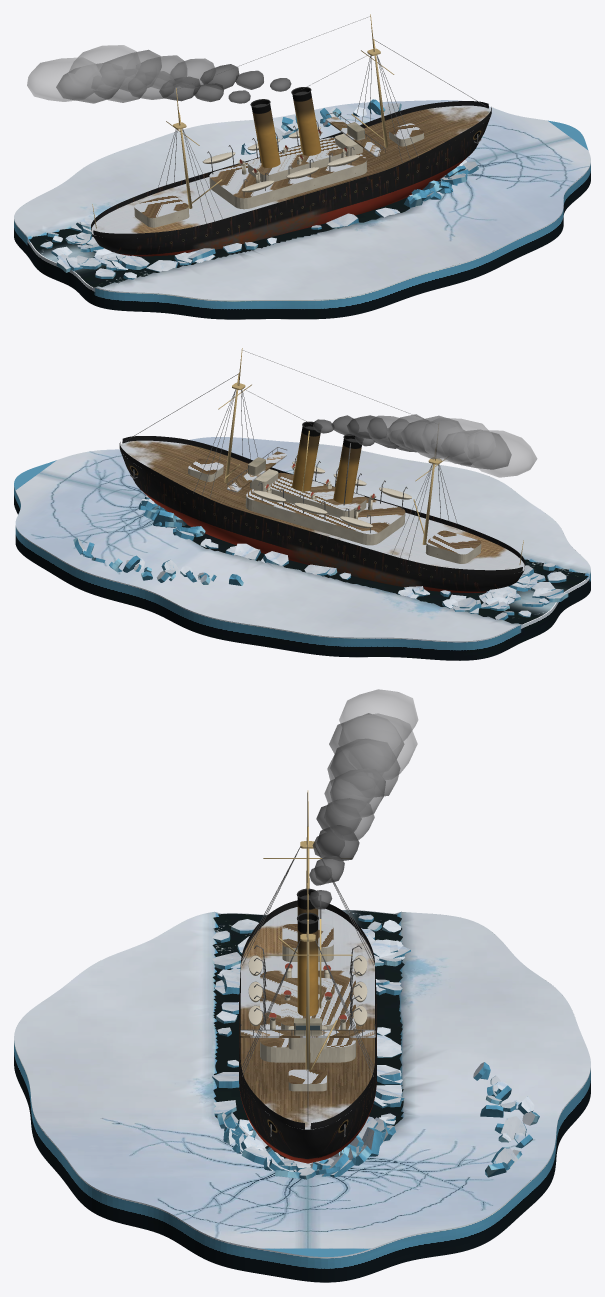
The model's file is ermak-1899.glb.
The picture shows the model from 3 angles, top to bottom: view 1: azimuth 30°, elevation 25°; view 2: azimuth 150°, elevation 25°; view 3: azimuth 270°, elevation 25°; orthographic projection. The views are drawn at different scales.
Parts seen in each view (by area): view 1: ledyanoe-pole, korpus, dioramy-srez, paluba, oblomki-ldin, nadstrojka, voda-kanal, dym-13, dym-6, dym-12, nadstr-2, dym-5 (+13 smaller); view 2: ledyanoe-pole, korpus, dioramy-srez, paluba, oblomki-ldin, nadstrojka, voda-kanal, dym-6, dym-13, dym-12, dym-5, nadstr-2 (+9 smaller); view 3: ledyanoe-pole, dioramy-srez, oblomki-ldin, paluba, korpus, voda-kanal, nadstrojka, dym-6, dym-5, dym-13, dym-12, dym-4 (+9 smaller).
Part boxes in pixels (bbox=[...]): ledyanoe-pole: bbox=[14, 100, 590, 300]; korpus: bbox=[91, 101, 491, 256]; dioramy-srez: bbox=[14, 100, 590, 319]; paluba: bbox=[91, 105, 490, 235]; oblomki-ldin: bbox=[40, 99, 478, 279]; nadstrojka: bbox=[209, 137, 367, 209]; voda-kanal: bbox=[29, 179, 576, 287]; dym-13: bbox=[27, 57, 101, 101]; dym-6: bbox=[68, 45, 140, 90]; dym-12: bbox=[56, 63, 122, 103]; nadstr-2: bbox=[247, 138, 342, 181]; dym-5: bbox=[100, 49, 161, 92]; ledyanoe-pole: bbox=[14, 437, 590, 641]; korpus: bbox=[119, 436, 525, 592]; dioramy-srez: bbox=[14, 486, 590, 660]; paluba: bbox=[119, 440, 524, 571]; oblomki-ldin: bbox=[73, 495, 568, 620]; nadstrojka: bbox=[245, 472, 405, 545]; voda-kanal: bbox=[182, 524, 588, 639]; dym-6: bbox=[421, 417, 495, 463]; dym-13: bbox=[464, 430, 537, 477]; dym-12: bbox=[441, 429, 511, 469]; dym-5: bbox=[400, 415, 464, 456]; nadstr-2: bbox=[269, 474, 366, 517]; ledyanoe-pole: bbox=[14, 911, 590, 1256]; dioramy-srez: bbox=[14, 910, 590, 1282]; oblomki-ldin: bbox=[212, 914, 539, 1179]; paluba: bbox=[240, 907, 374, 1129]; korpus: bbox=[239, 900, 376, 1163]; voda-kanal: bbox=[212, 910, 530, 1180]; nadstrojka: bbox=[260, 970, 355, 1062]; dym-6: bbox=[338, 713, 417, 779]; dym-5: bbox=[330, 739, 400, 797]; dym-13: bbox=[339, 689, 418, 740]; dym-12: bbox=[329, 713, 404, 770]; dym-4: bbox=[330, 768, 385, 817].
Bounding box in the file's own units: 129 × 48.61 × 90.3.
20 materials, 9 textured.
